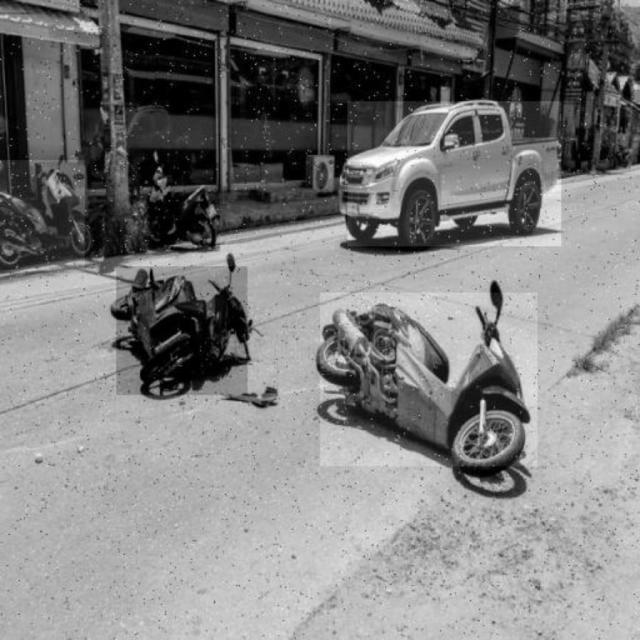vehicle: (321, 292, 538, 466), (348, 101, 562, 245), (117, 266, 248, 394), (0, 160, 84, 271), (137, 163, 219, 253)
